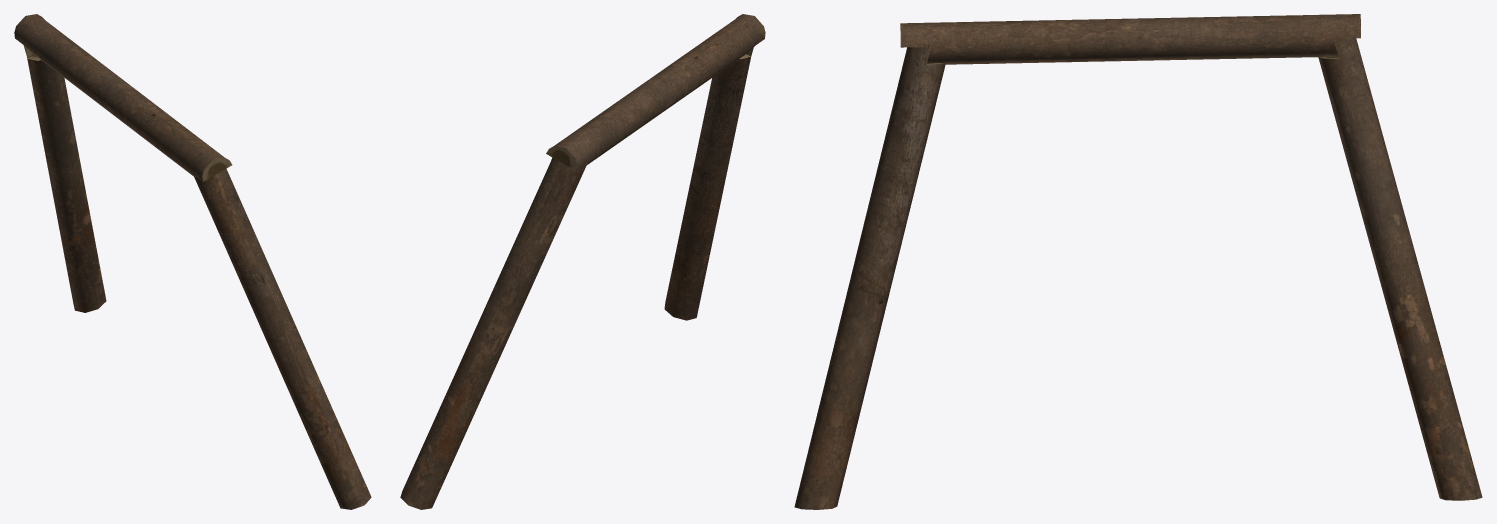
Rendered from ThreeSupportComposite.glb.
3 views of the same model, side by side, from view 1: azimuth 30°, elevation 25°; view 2: azimuth 150°, elevation 25°; view 3: azimuth 270°, elevation 25° (orthographic). The views are drawn at different scales.
Visible parts, largest first — view 1: TS_Lo_up; view 2: TS_Lo_up; view 3: TS_Lo_up.
Boxes of the visible parts, left/top/right/bottom form: TS_Lo_up: left=14, top=14, right=371, bottom=509; TS_Lo_up: left=400, top=14, right=765, bottom=509; TS_Lo_up: left=794, top=14, right=1482, bottom=509.
Size of the model in its own units: 0.8834 by 2.23 by 3.2.
1 material, 1 textured.
